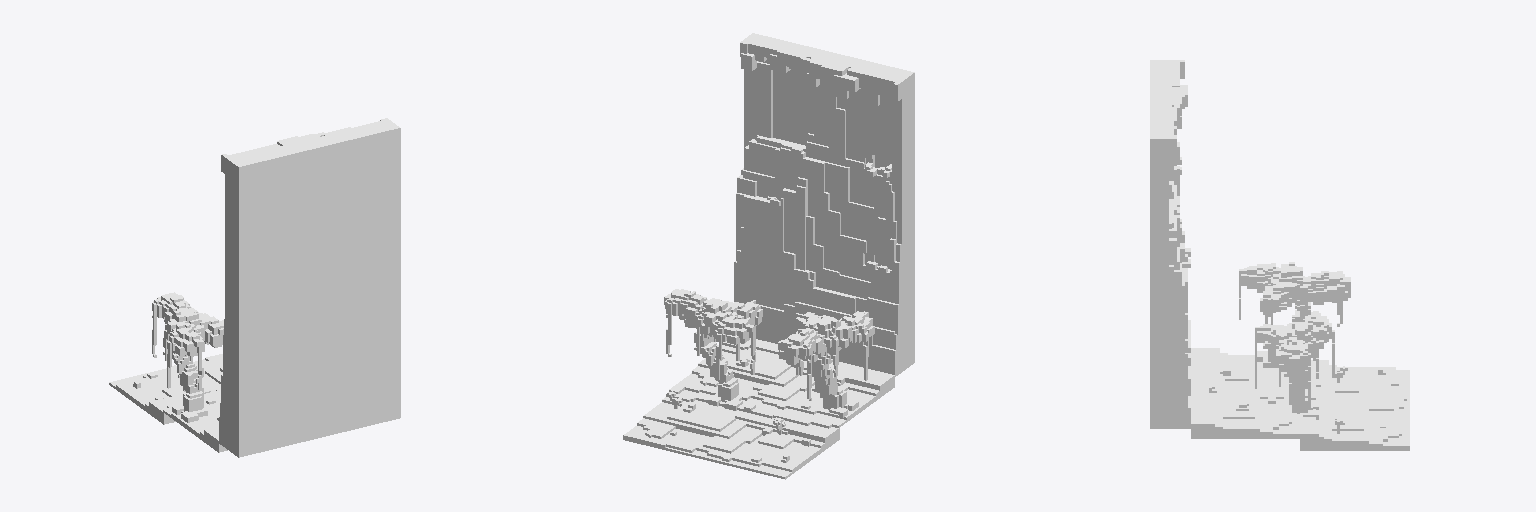
Rendered from meadow_with_tree_02-0.obj.
The picture shows the model from 3 angles: view 1: azimuth 30°, elevation 25°; view 2: azimuth 150°, elevation 25°; view 3: azimuth 270°, elevation 25°; orthographic projection.
Visible parts, largest first — view 1: object 1; view 2: object 1; view 3: object 1.
Boxes of the visible parts, x1=… form: object 1: x1=109, y1=118, x2=400, y2=457; object 1: x1=623, y1=33, x2=914, y2=479; object 1: x1=1150, y1=60, x2=1409, y2=450.
Bounding box in the file's own units: 8.1 × 12.9 × 9.7.